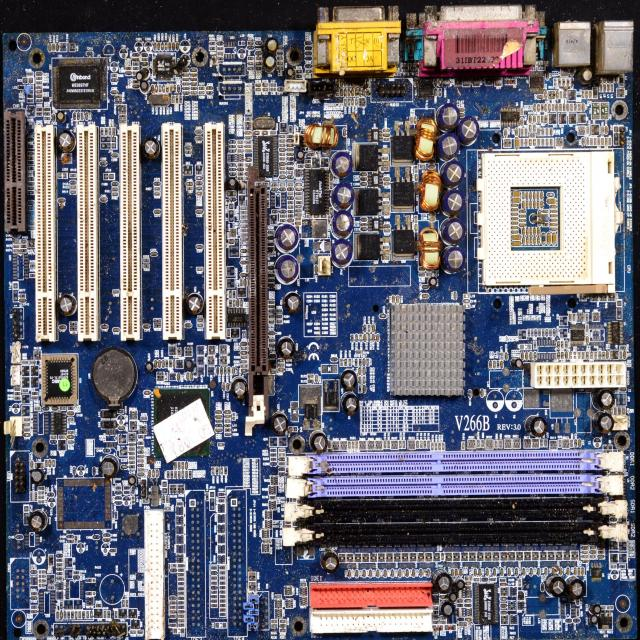Capacitor Jumper: (138, 132, 159, 160), (277, 225, 297, 253), (443, 218, 466, 242), (439, 102, 458, 130), (55, 123, 73, 152), (283, 292, 304, 316), (595, 387, 616, 411), (333, 210, 351, 238), (280, 256, 300, 281), (230, 377, 250, 401), (440, 132, 458, 158), (330, 154, 352, 175), (528, 414, 548, 436), (443, 162, 462, 185), (185, 290, 203, 314), (340, 394, 360, 415), (320, 552, 340, 573), (59, 292, 78, 314), (340, 369, 358, 392), (597, 410, 614, 434), (448, 248, 465, 272), (434, 573, 453, 594), (569, 581, 588, 599), (549, 576, 566, 596), (461, 120, 478, 140), (446, 194, 464, 212), (272, 415, 288, 434), (313, 434, 328, 452), (103, 459, 118, 476), (29, 512, 44, 528), (31, 469, 44, 484), (442, 604, 453, 617), (56, 109, 64, 122), (456, 578, 466, 588), (140, 81, 150, 91), (186, 358, 193, 371), (145, 360, 152, 373), (173, 66, 181, 77), (134, 72, 144, 80), (426, 566, 431, 578), (390, 568, 395, 578), (595, 602, 600, 612), (591, 616, 598, 623), (50, 406, 58, 412), (128, 477, 134, 485), (450, 593, 456, 601), (465, 616, 473, 622), (252, 130, 260, 136), (244, 130, 252, 136), (362, 334, 367, 343), (153, 360, 158, 369), (185, 372, 190, 381), (66, 411, 75, 416), (91, 535, 100, 540), (124, 70, 133, 75), (84, 111, 89, 120), (162, 83, 166, 94), (143, 323, 150, 329), (484, 569, 490, 576), (111, 89, 118, 95), (100, 325, 108, 330), (371, 333, 375, 343), (277, 367, 285, 372), (227, 366, 231, 376), (314, 374, 318, 384), (222, 382, 226, 392), (362, 385, 367, 393), (477, 569, 482, 577), (368, 568, 372, 578), (375, 569, 379, 579), (261, 130, 269, 135), (286, 147, 294, 152), (240, 219, 248, 224), (240, 223, 248, 228), (240, 237, 248, 242), (362, 358, 366, 367), (157, 359, 161, 368), (161, 359, 165, 368), (216, 366, 220, 375), (362, 367, 366, 376), (176, 372, 180, 381), (406, 568, 410, 577), (191, 72, 197, 78), (154, 84, 158, 93), (113, 328, 120, 333), (32, 604, 39, 609), (206, 90, 213, 95), (286, 138, 293, 143), (240, 248, 247, 253), (236, 299, 240, 307), (372, 324, 376, 332), (376, 334, 380, 342), (240, 350, 248, 354), (172, 360, 176, 368), (358, 367, 362, 375), (215, 414, 223, 418), (492, 568, 496, 576), (37, 570, 45, 574), (383, 569, 387, 577), (464, 598, 472, 602), (30, 608, 38, 612), (35, 72, 43, 76), (286, 143, 294, 147), (243, 279, 247, 287), (241, 368, 247, 373), (597, 553, 603, 558), (39, 583, 45, 588), (183, 77, 189, 82), (245, 135, 251, 140), (516, 138, 519, 148), (245, 157, 251, 162), (296, 187, 302, 192), (270, 354, 277, 358), (190, 372, 194, 379), (507, 569, 511, 576), (500, 604, 507, 608), (190, 68, 197, 72), (182, 73, 189, 77), (190, 78, 197, 82), (206, 86, 213, 90), (279, 148, 286, 152), (279, 175, 286, 179), (295, 182, 302, 186), (552, 235, 556, 242), (240, 273, 247, 277), (220, 366, 223, 375), (175, 42, 178, 51), (214, 411, 222, 414), (165, 42, 168, 50), (152, 470, 156, 476), (419, 569, 422, 577), (500, 597, 508, 600), (414, 175, 418, 181), (514, 235, 520, 239), (241, 260, 247, 264), (224, 365, 226, 376), (226, 383, 229, 390), (157, 43, 160, 50), (161, 43, 164, 50), (103, 534, 110, 537), (545, 73, 548, 80), (177, 85, 180, 92), (225, 414, 230, 418), (256, 41, 261, 45), (66, 536, 76, 538), (583, 547, 588, 551), (582, 566, 584, 576), (349, 568, 351, 578), (413, 569, 415, 579), (31, 597, 36, 601), (112, 154, 117, 158), (513, 192, 518, 196), (288, 196, 293, 200), (385, 224, 390, 228), (268, 265, 273, 269), (422, 284, 427, 288), (392, 297, 395, 303), (534, 354, 537, 360), (168, 42, 170, 51), (544, 568, 547, 574), (529, 569, 532, 575), (363, 570, 366, 576), (39, 580, 45, 583), (581, 104, 584, 110), (70, 181, 76, 184), (112, 182, 118, 185), (525, 228, 528, 234), (547, 235, 550, 241), (381, 314, 385, 318), (18, 536, 22, 540), (566, 568, 570, 572), (578, 567, 580, 575), (574, 567, 576, 575), (30, 570, 34, 574), (356, 570, 358, 578), (230, 140, 234, 144), (548, 198, 552, 202), (422, 294, 427, 297), (217, 42, 222, 45), (279, 457, 284, 460), (474, 569, 477, 574), (459, 570, 462, 575), (574, 620, 579, 623), (173, 86, 176, 91), (586, 92, 589, 97), (280, 162, 285, 165), (237, 168, 242, 171), (362, 172, 367, 175), (429, 212, 434, 215), (429, 218, 434, 221), (558, 341, 560, 348), (522, 352, 524, 359), (490, 359, 492, 366), (49, 460, 51, 467), (154, 43, 156, 50), (138, 473, 145, 475), (166, 84, 168, 91), (545, 116, 547, 123), (606, 127, 608, 134), (504, 130, 506, 137), (396, 296, 398, 302), (586, 336, 588, 342), (624, 352, 626, 358), (494, 362, 496, 368), (144, 392, 150, 394), (225, 411, 231, 413), (120, 427, 124, 430), (56, 44, 58, 50), (248, 46, 252, 49), (280, 473, 284, 476), (132, 488, 134, 494), (116, 491, 120, 494), (104, 539, 108, 542), (501, 568, 503, 574), (516, 568, 518, 574), (536, 570, 539, 574), (501, 583, 507, 585), (566, 620, 572, 622), (191, 83, 195, 86), (538, 95, 542, 98), (534, 116, 536, 122), (385, 129, 389, 132), (516, 129, 518, 135), (530, 139, 532, 145), (288, 153, 292, 156), (306, 164, 310, 167), (230, 172, 234, 175), (272, 188, 278, 190), (59, 198, 63, 201), (526, 202, 528, 208), (513, 204, 517, 207), (280, 211, 286, 213), (512, 212, 516, 215), (512, 222, 518, 224), (415, 225, 417, 231), (269, 237, 273, 240), (522, 239, 525, 243), (514, 242, 520, 244), (363, 326, 365, 331), (242, 343, 247, 345), (606, 352, 608, 357), (530, 354, 532, 359), (565, 354, 567, 359), (579, 440, 581, 445), (575, 441, 577, 446), (185, 463, 187, 468), (255, 51, 260, 53), (87, 53, 92, 55), (558, 569, 560, 574), (39, 576, 44, 578), (465, 605, 470, 607), (112, 79, 117, 81), (170, 86, 172, 91), (556, 93, 558, 98), (522, 193, 524, 198), (514, 200, 519, 202), (288, 218, 293, 220), (537, 228, 539, 233), (522, 228, 524, 233), (537, 238, 539, 243), (526, 238, 528, 243), (217, 428, 220, 431), (452, 568, 453, 577), (102, 161, 105, 164), (464, 300, 468, 302), (355, 336, 357, 340), (558, 353, 560, 357), (500, 363, 502, 367), (270, 463, 274, 465), (116, 496, 120, 498), (116, 502, 120, 504), (68, 540, 72, 542), (57, 554, 61, 556), (184, 82, 188, 84), (184, 87, 188, 89), (184, 92, 188, 94), (544, 94, 546, 98), (537, 105, 539, 109), (566, 105, 568, 109), (544, 106, 546, 110), (414, 118, 416, 122), (384, 133, 388, 135), (230, 146, 234, 148), (288, 158, 292, 160), (231, 164, 235, 166), (288, 167, 292, 169), (384, 178, 388, 180), (362, 178, 366, 180), (360, 183, 364, 185), (288, 188, 292, 190), (549, 193, 553, 195), (536, 194, 538, 198), (530, 194, 532, 198), (541, 202, 543, 206), (530, 202, 532, 206), (534, 202, 536, 206), (520, 223, 524, 225), (534, 239, 536, 243), (530, 239, 532, 243), (505, 352, 506, 358), (123, 466, 126, 468), (49, 44, 50, 50), (280, 468, 283, 470), (94, 468, 95, 474), (553, 569, 554, 575), (523, 569, 524, 575), (73, 576, 79, 577), (467, 583, 470, 585), (61, 612, 62, 618), (555, 106, 557, 109), (521, 118, 522, 124), (534, 140, 535, 146), (231, 150, 234, 152), (102, 198, 105, 200), (520, 210, 523, 212), (552, 214, 555, 216), (513, 217, 516, 219), (521, 219, 524, 221), (297, 222, 300, 224), (552, 224, 555, 226), (513, 226, 516, 228), (551, 228, 554, 230), (270, 284, 273, 286), (454, 293, 455, 298), (31, 460, 32, 465), (526, 354, 527, 358), (218, 425, 222, 426), (192, 88, 196, 89), (549, 105, 550, 109), (289, 162, 291, 164), (230, 169, 234, 170), (70, 187, 74, 188), (540, 193, 541, 197), (527, 193, 528, 197), (522, 204, 524, 206), (552, 205, 554, 207), (520, 215, 524, 216), (551, 219, 555, 220), (530, 229, 531, 233), (534, 229, 535, 233), (513, 231, 517, 232), (192, 91, 195, 92), (70, 191, 73, 192), (533, 194, 534, 197), (551, 210, 554, 211), (282, 189, 284, 190), (514, 209, 516, 210), (600, 353, 600, 358), (534, 106, 534, 110), (530, 117, 530, 123), (538, 202, 538, 207)
Connector: (160, 123, 188, 340), (33, 124, 56, 341), (204, 122, 226, 342), (119, 124, 140, 343), (80, 122, 96, 338)
IC: (54, 67, 107, 105), (40, 356, 78, 402), (303, 169, 330, 218), (478, 586, 494, 620), (258, 139, 271, 172), (306, 405, 317, 419), (611, 322, 619, 340), (502, 112, 514, 123), (591, 567, 601, 580), (532, 78, 543, 89), (572, 330, 584, 340), (230, 314, 243, 323), (373, 130, 377, 140), (374, 219, 378, 229), (373, 175, 377, 184)
Resistor Jumper: (48, 553, 54, 567), (175, 506, 183, 514), (339, 358, 344, 367), (279, 156, 286, 162), (278, 358, 286, 363), (277, 362, 285, 367), (164, 372, 168, 382), (68, 406, 76, 411), (158, 84, 162, 94), (278, 138, 286, 143), (278, 143, 286, 148), (367, 323, 371, 332), (350, 333, 354, 342), (344, 358, 348, 367), (268, 229, 274, 235), (268, 314, 275, 319), (240, 346, 247, 351), (59, 406, 66, 411), (198, 90, 205, 95), (237, 144, 244, 149), (279, 152, 286, 157), (240, 205, 247, 210), (240, 210, 247, 215), (232, 299, 236, 307), (268, 320, 276, 324), (242, 330, 246, 338), (359, 334, 363, 342), (348, 358, 352, 366), (13, 392, 21, 396), (244, 140, 252, 144), (279, 166, 287, 170), (278, 182, 286, 186), (240, 215, 248, 219), (240, 233, 248, 237), (227, 328, 230, 338), (269, 338, 275, 343), (268, 300, 275, 304), (268, 304, 275, 308), (276, 308, 283, 312), (268, 309, 275, 313), (276, 320, 283, 324), (268, 343, 275, 347), (240, 355, 247, 359), (256, 61, 263, 65), (198, 86, 205, 90), (179, 96, 183, 103), (278, 134, 285, 138), (287, 170, 294, 174), (279, 171, 286, 175), (240, 228, 247, 232), (229, 290, 232, 298), (276, 314, 282, 318), (242, 364, 248, 368), (34, 407, 40, 411), (175, 95, 178, 103), (237, 140, 243, 144), (296, 204, 302, 208), (296, 209, 302, 213), (280, 629, 287, 632), (287, 183, 294, 186), (269, 331, 274, 335), (384, 200, 389, 204), (241, 360, 247, 363), (14, 396, 20, 399), (571, 440, 574, 446), (115, 512, 118, 518), (96, 604, 102, 607), (577, 610, 580, 616), (415, 166, 418, 172), (271, 183, 277, 186), (382, 212, 388, 215), (384, 230, 390, 233), (37, 90, 41, 94), (384, 156, 388, 160), (356, 350, 361, 353), (498, 441, 501, 446), (138, 459, 143, 462), (129, 460, 134, 463), (51, 461, 54, 466), (279, 463, 284, 466), (210, 47, 215, 50), (248, 57, 253, 60), (383, 167, 388, 170), (538, 129, 540, 136), (233, 292, 235, 298), (354, 359, 356, 365), (307, 376, 313, 378), (363, 376, 365, 382), (142, 417, 146, 420), (210, 42, 214, 45), (482, 440, 484, 446), (559, 440, 561, 446), (545, 440, 547, 446), (478, 441, 480, 447), (494, 441, 496, 447), (423, 441, 425, 447), (387, 442, 389, 448), (431, 444, 433, 450), (130, 448, 134, 451), (270, 449, 276, 451), (139, 455, 143, 458), (272, 458, 276, 461), (178, 463, 180, 469), (218, 47, 222, 50), (116, 486, 120, 489), (58, 559, 62, 562), (219, 57, 223, 60), (31, 593, 37, 595), (115, 611, 117, 617), (75, 612, 77, 618), (280, 620, 284, 623), (130, 631, 134, 634), (248, 63, 254, 65), (112, 73, 116, 76), (36, 77, 40, 80), (172, 97, 174, 103), (37, 99, 41, 102), (37, 112, 41, 115), (410, 118, 412, 124), (529, 124, 531, 130), (533, 124, 535, 130), (384, 138, 390, 140), (521, 139, 523, 145), (538, 140, 540, 146), (245, 145, 251, 147), (308, 153, 312, 156), (305, 159, 309, 162), (238, 163, 242, 166), (288, 192, 292, 195), (112, 193, 116, 196), (288, 214, 292, 217), (280, 215, 284, 218), (281, 219, 285, 222), (268, 243, 272, 246), (382, 257, 388, 259), (240, 280, 242, 286), (230, 301, 232, 306), (359, 359, 361, 364), (367, 359, 369, 364), (359, 377, 361, 382), (217, 420, 222, 422), (384, 442, 386, 447), (129, 456, 134, 458), (224, 467, 226, 472), (212, 468, 214, 473), (52, 45, 54, 50), (275, 595, 280, 597), (68, 612, 70, 617), (86, 612, 88, 617), (79, 612, 81, 617), (272, 619, 277, 621), (272, 625, 277, 627), (44, 117, 49, 119), (602, 128, 604, 133), (525, 129, 527, 134), (546, 130, 548, 135), (542, 130, 544, 135), (550, 130, 552, 135), (525, 139, 527, 144), (591, 139, 593, 144), (594, 140, 596, 145), (238, 150, 243, 152), (268, 274, 273, 276), (119, 410, 122, 413), (256, 57, 259, 60), (297, 192, 300, 195), (130, 443, 134, 445), (218, 444, 222, 446), (439, 444, 441, 448), (138, 446, 142, 448), (138, 464, 142, 466), (131, 466, 135, 468), (220, 468, 222, 472), (139, 469, 143, 471), (124, 492, 128, 494), (218, 52, 222, 54), (56, 564, 60, 566), (458, 605, 462, 607), (432, 611, 436, 613), (90, 612, 92, 616), (104, 612, 106, 616), (433, 616, 437, 618), (279, 626, 283, 628), (138, 631, 142, 633), (256, 68, 260, 70), (28, 72, 32, 74), (44, 108, 48, 110), (45, 113, 49, 115), (546, 139, 548, 143), (550, 139, 552, 143), (246, 149, 250, 151), (237, 173, 241, 175), (237, 178, 241, 180), (113, 188, 117, 190), (296, 198, 300, 200), (296, 201, 300, 203), (288, 202, 292, 204), (273, 210, 277, 212), (296, 218, 300, 220), (268, 248, 272, 250), (270, 279, 274, 281), (308, 380, 311, 382), (249, 42, 252, 44), (138, 434, 141, 436), (139, 442, 142, 444), (541, 440, 542, 446), (421, 442, 422, 448), (355, 442, 356, 448), (348, 442, 349, 448), (435, 444, 436, 450), (139, 450, 142, 452), (175, 463, 176, 469), (124, 487, 127, 489), (111, 550, 114, 552), (58, 568, 61, 570), (58, 572, 61, 574), (58, 576, 61, 578), (434, 607, 437, 609), (108, 611, 109, 617), (83, 611, 84, 617), (37, 108, 40, 110), (543, 138, 544, 144), (289, 210, 292, 212), (297, 213, 299, 216), (417, 441, 418, 446), (401, 442, 402, 447), (463, 443, 464, 448), (46, 460, 47, 465), (217, 468, 218, 473), (126, 601, 127, 606), (57, 612, 58, 617), (64, 612, 65, 617), (440, 621, 445, 622), (37, 95, 42, 96), (599, 139, 600, 144), (608, 139, 609, 144), (428, 442, 429, 446), (403, 442, 404, 446), (352, 442, 353, 446), (442, 444, 443, 448), (280, 454, 284, 455), (182, 463, 183, 467), (123, 602, 124, 606), (61, 602, 62, 606), (72, 612, 73, 616), (440, 617, 444, 618), (433, 621, 437, 622), (37, 82, 41, 83), (225, 421, 228, 422), (280, 450, 283, 451), (130, 453, 133, 454), (271, 454, 274, 455), (459, 600, 462, 601), (248, 67, 251, 68), (37, 87, 40, 88), (288, 206, 291, 207), (522, 129, 522, 136), (588, 139, 588, 144), (606, 139, 606, 144), (603, 139, 603, 144)
Transistor: (359, 146, 374, 167), (397, 138, 412, 157), (398, 183, 410, 204), (360, 191, 374, 208), (361, 235, 374, 253), (396, 234, 408, 251), (601, 614, 612, 629), (22, 404, 30, 418), (30, 365, 39, 377), (22, 376, 30, 388), (30, 377, 38, 388), (22, 395, 30, 404), (22, 366, 29, 374), (592, 126, 598, 134), (239, 289, 245, 296), (95, 609, 100, 617), (130, 610, 135, 618), (611, 352, 617, 358), (569, 115, 574, 122), (120, 610, 124, 618), (571, 91, 575, 99), (518, 592, 523, 598), (578, 116, 583, 122), (434, 596, 438, 603), (560, 115, 564, 122), (132, 621, 137, 626), (551, 116, 555, 120)
